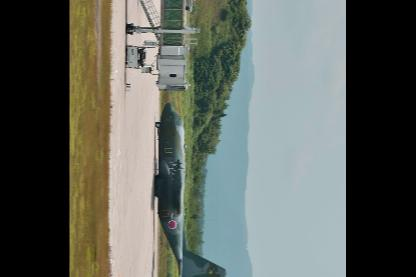Be200: (154, 101, 227, 276)
